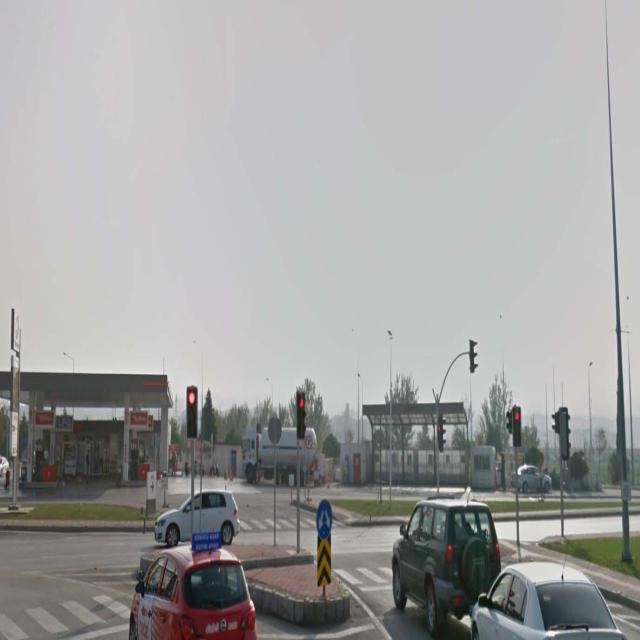kirmizi: (295, 390, 306, 440), (188, 385, 198, 437), (512, 406, 522, 446)
